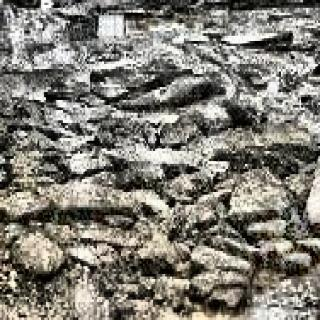alligator-crack: (5, 69, 319, 316)
pothole: (61, 5, 187, 46), (200, 28, 318, 58), (192, 0, 267, 28)
